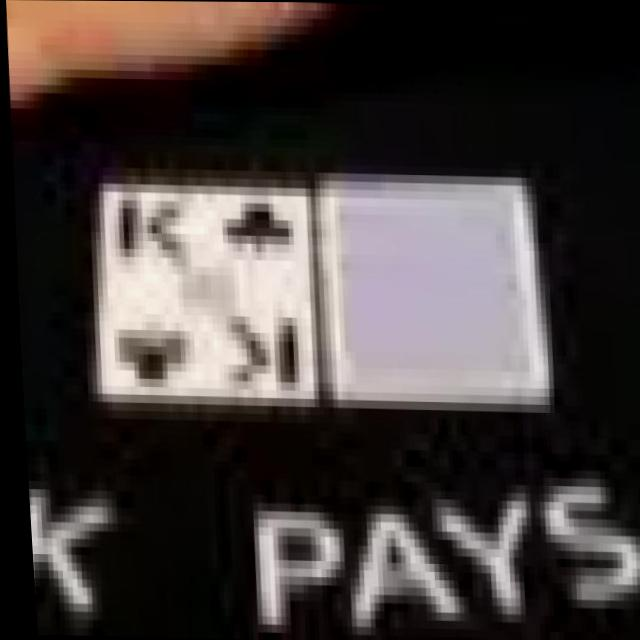Card-K: (96, 182, 311, 404)
